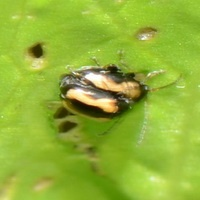insect: (53, 59, 180, 132)
